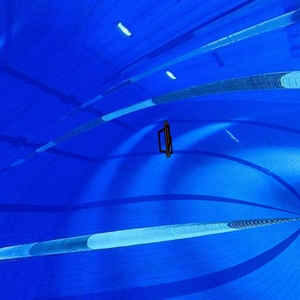submarine: (154, 118, 180, 164)
